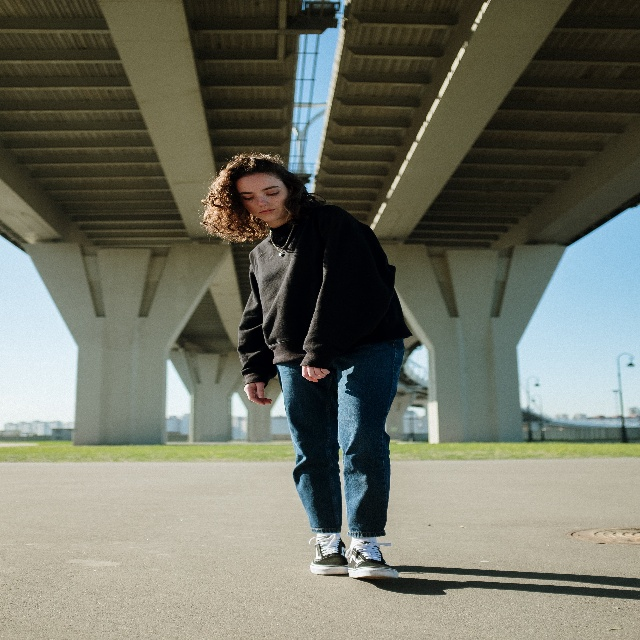Sin_guantes: (243, 381, 272, 406), (301, 365, 330, 383)
